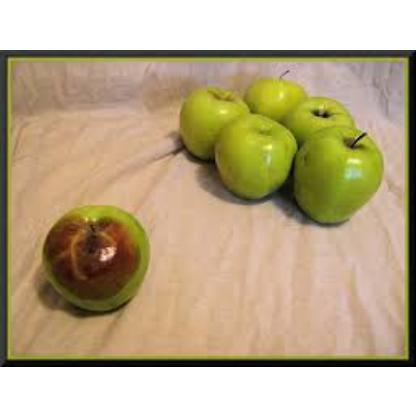apple: (290, 127, 380, 220), (215, 117, 297, 193), (180, 82, 248, 152), (290, 94, 356, 136), (247, 70, 306, 114)
damaged_apple: (37, 202, 155, 303)
